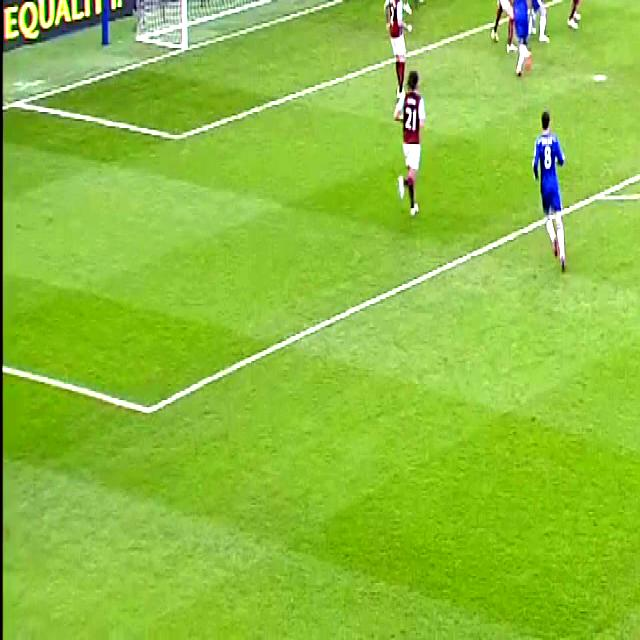goalkeeper: (400, 0, 434, 7)
soccer-player: (526, 100, 576, 268), (393, 74, 429, 225), (380, 0, 416, 101), (499, 0, 538, 68), (484, 0, 516, 52), (520, 0, 551, 50), (554, 0, 592, 39), (639, 469, 640, 640)
